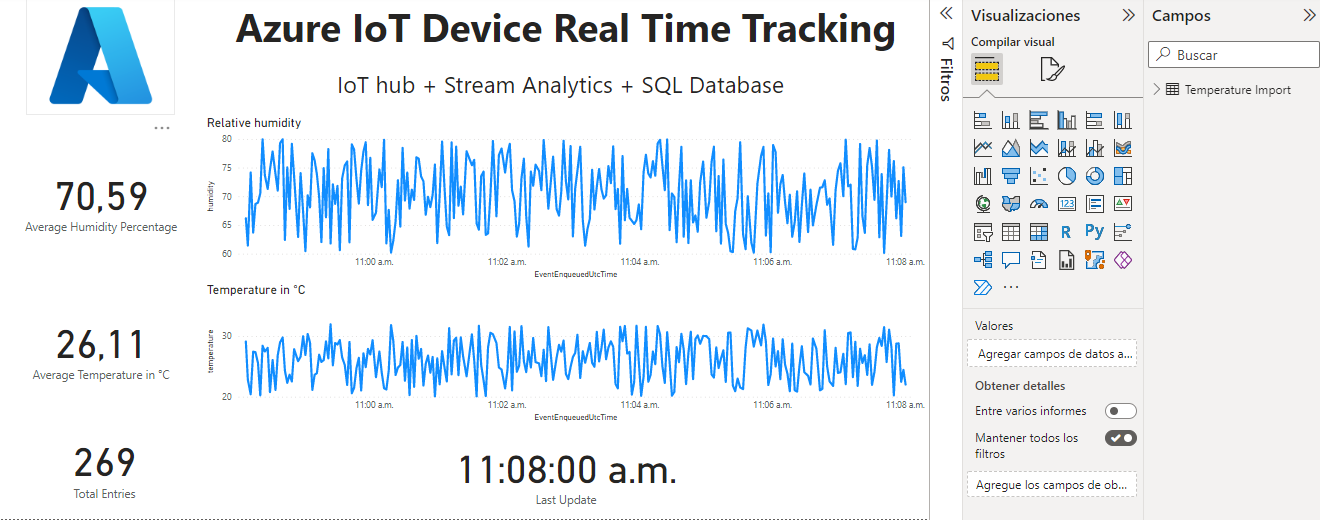

Layout of this report page (visuals, bound fields, positions):
{"tool":"powerbi","page":{"name":"Página 1","canvas":[1280,720],"ordinal":0},"visuals":[{"type":"card","fields":{"Values":["Avg(Temperature Import.humidity)"]},"box":[0,163.8,280.8,229.8],"z":0},{"type":"lineChart","title":"Relative humidity ","fields":{"Y":["Sum(Temperature Import.humidity)"],"Category":["Temperature Import.EventEnqueuedUtcTime"]},"box":[280.8,163.8,999.2,229.8],"z":1000},{"type":"card","fields":{"Values":["Avg(Temperature Import.temperature)"]},"box":[0,393.6,280.8,178.9],"z":2000},{"type":"card","fields":{"Values":["CountNonNull(Temperature Import.deviceId)"]},"box":[9.6,571.2,271.1,148.6],"z":3000},{"type":"lineChart","title":"Temperature in °C","fields":{"Category":["Temperature Import.EventEnqueuedUtcTime"],"Y":["Sum(Temperature Import.temperature)"]},"box":[280.8,393.6,999.2,196.8],"z":4000},{"type":"card","fields":{"Values":["Max(Temperature Import.EventEnqueuedUtcTime)"]},"box":[280.8,590.5,999.2,129.4],"z":5000},{"type":"image","box":[37.2,0,205.1,163.8],"z":6000},{"type":"textbox","box":[281,0,999,164],"z":7000}]}

Visuals, with their boxes on the page's 1280x720 design canvas (x1, y1, x2, y2). These are canvas units, not pixel positions in the 1320x520 screenshot, which may show the page scaled, cropped or inside an application window:
card - Avg(Temperature Import.humidity): [0,164,281,394]
"Relative humidity " lineChart: [281,164,1280,394]
card - Avg(Temperature Import.temperature): [0,394,281,572]
card - CountNonNull(Temperature Import.deviceId): [10,571,281,720]
"Temperature in °C" lineChart: [281,394,1280,590]
card - Max(Temperature Import.EventEnqueuedUtcTime): [281,590,1280,720]
image: [37,0,242,164]
textbox: [281,0,1280,164]
